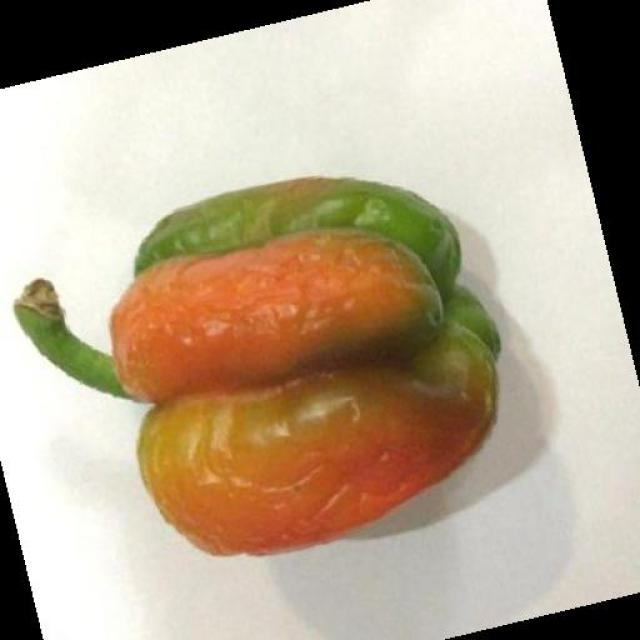Stale_Capsicum: (102, 187, 498, 544)
